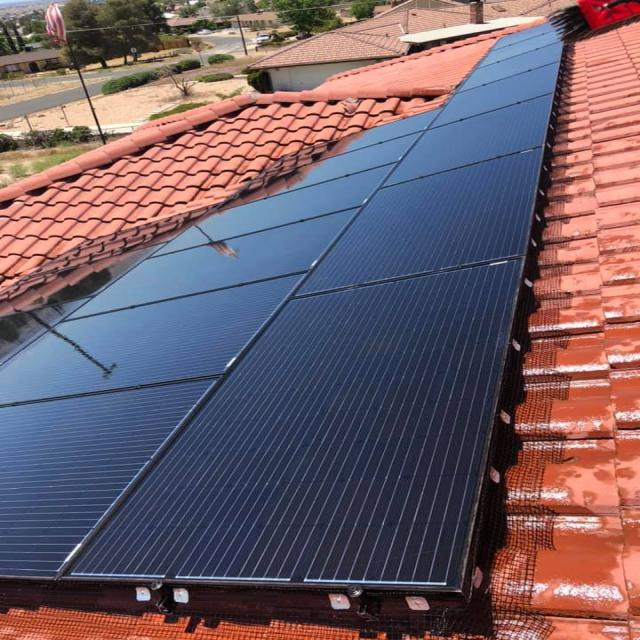clean-solar-panel: (3, 21, 565, 613)
